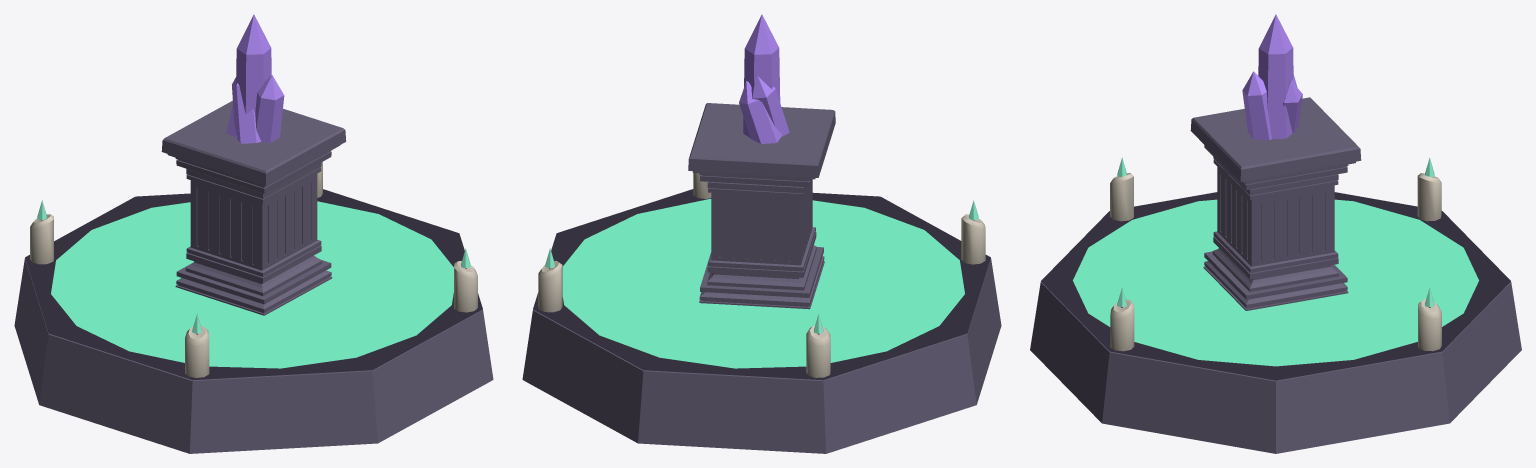
File: spring.fbx
The picture shows the model from 3 angles, left to right: view 1: azimuth 30°, elevation 25°; view 2: azimuth 150°, elevation 25°; view 3: azimuth 270°, elevation 25°; orthographic projection.
Parts seen in each view (by area): view 1: spring; view 2: spring; view 3: spring.
Part boxes in pixels (x1,y1,x2,y2): spring: (14,14,493,453); spring: (522,14,1001,453); spring: (1030,14,1521,453).
Size of the model in its own units: 2.76 by 2.08 by 2.76.
